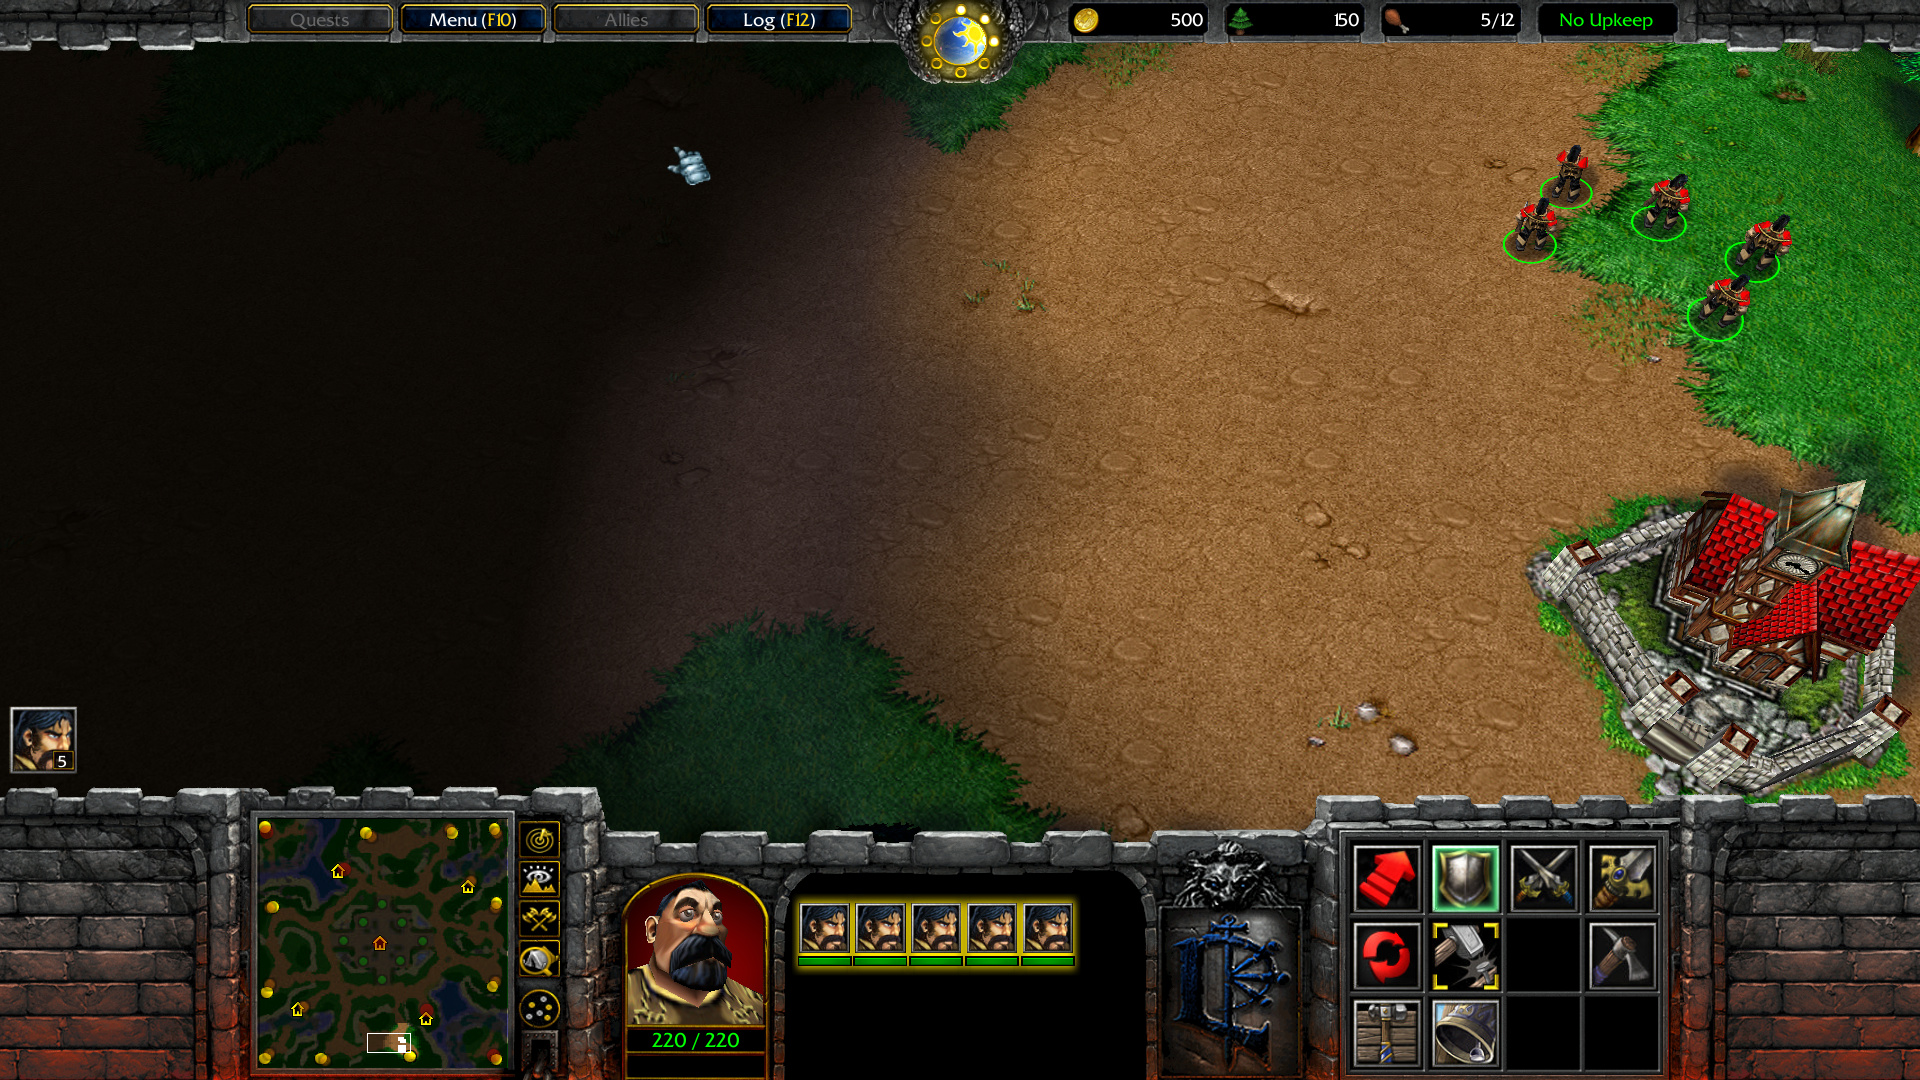Townhall: (1516, 478, 1920, 796)
